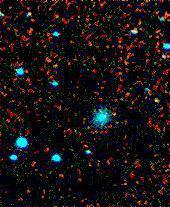star: (141, 86, 170, 116)
